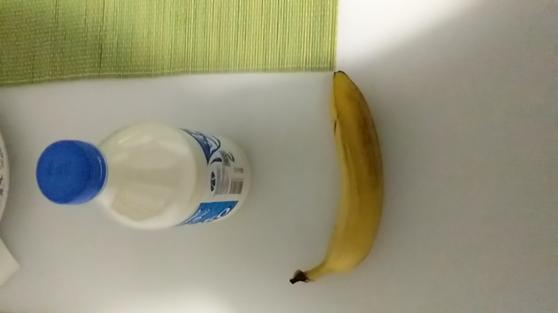banana: (281, 67, 403, 293)
milk: (27, 116, 262, 236)
